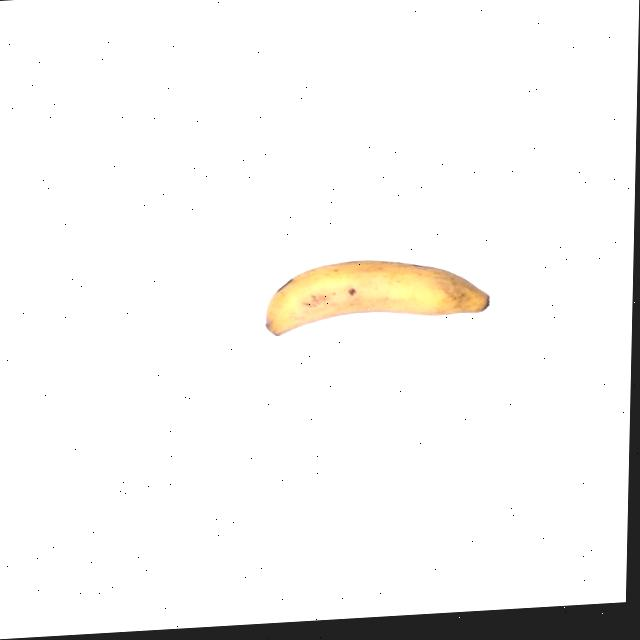banana: (260, 248, 495, 340)
